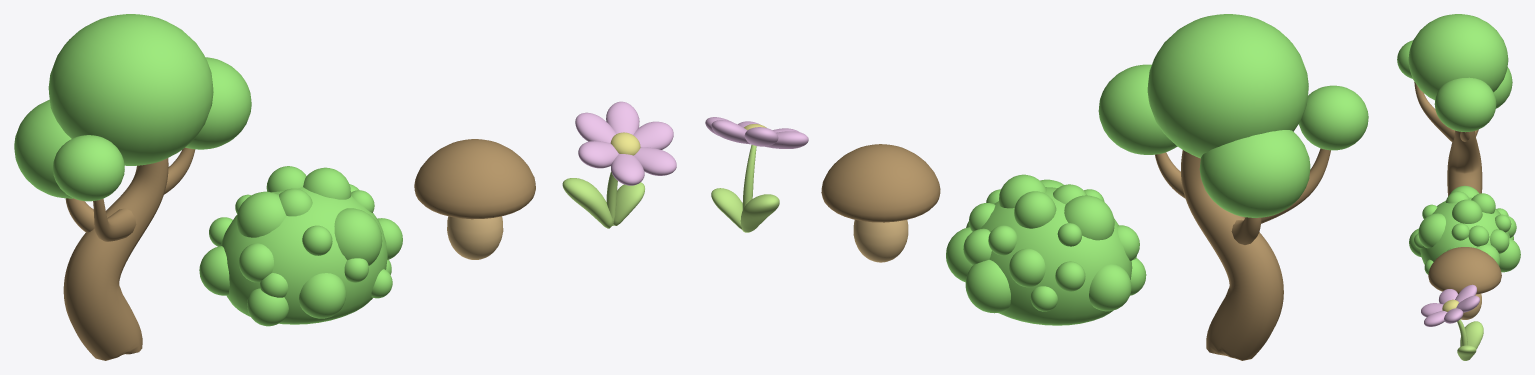
Rendered from Aussen.fbx.
3 views of the same model, side by side, from view 1: azimuth 30°, elevation 25°; view 2: azimuth 150°, elevation 25°; view 3: azimuth 270°, elevation 25° (orthographic). The views are drawn at different scales.
Parts seen in each view (by area): view 1: NurbsPath.013, Sphere.056, Sphere.012, NurbsPath.012; view 2: NurbsPath.013, Sphere.056, Sphere.012, NurbsPath.012; view 3: NurbsPath.013, Sphere.056, Sphere.012, NurbsPath.012.
Part boxes in pixels (left/top/right/bottom): NurbsPath.013: left=14, top=14, right=251, bottom=360; Sphere.056: left=199, top=166, right=402, bottom=326; Sphere.012: left=414, top=139, right=535, bottom=259; NurbsPath.012: left=562, top=101, right=676, bottom=228; NurbsPath.013: left=1098, top=14, right=1368, bottom=360; Sphere.056: left=946, top=174, right=1146, bottom=325; Sphere.012: left=821, top=144, right=940, bottom=262; NurbsPath.012: left=705, top=117, right=808, bottom=232; NurbsPath.013: left=1397, top=14, right=1512, bottom=196; Sphere.056: left=1409, top=185, right=1520, bottom=274; Sphere.012: left=1428, top=247, right=1501, bottom=319; NurbsPath.012: left=1421, top=284, right=1483, bottom=360.
Bounding box in the file's own units: 982 × 487 × 271.
